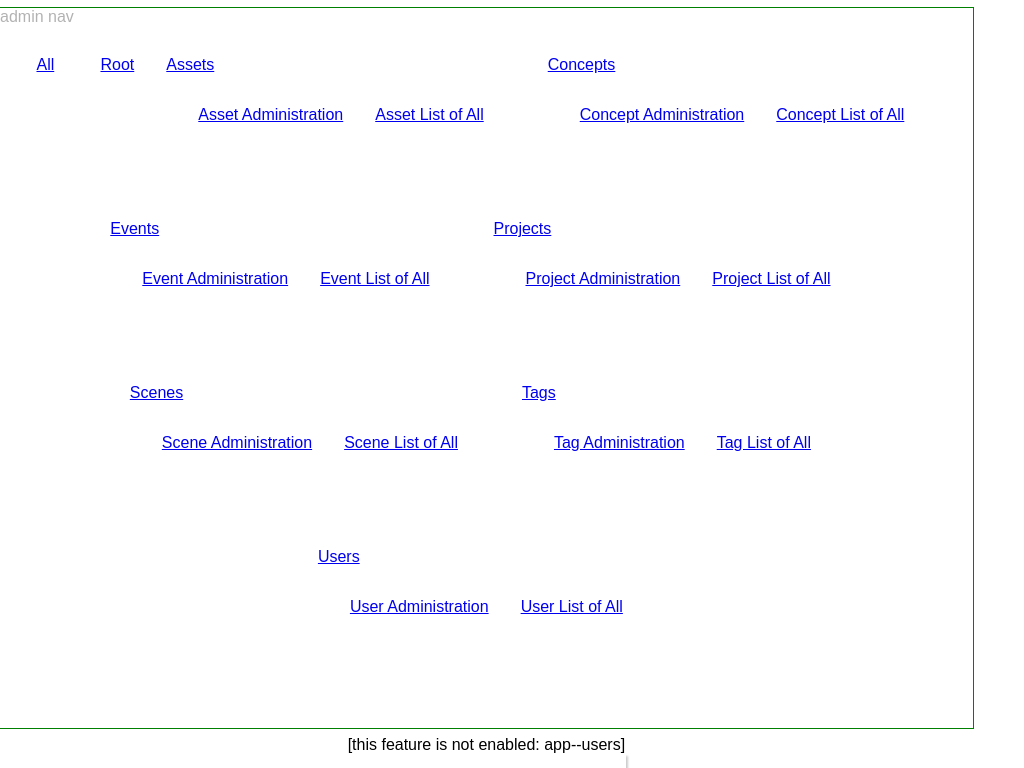
it: Admin Features Are Grounded › Has a link to Events; Event Features Are Not Enabled
This screenshot has width=1024, height=768.
Click the link "Events".
click(135, 229)  # box [110, 220, 159, 237]
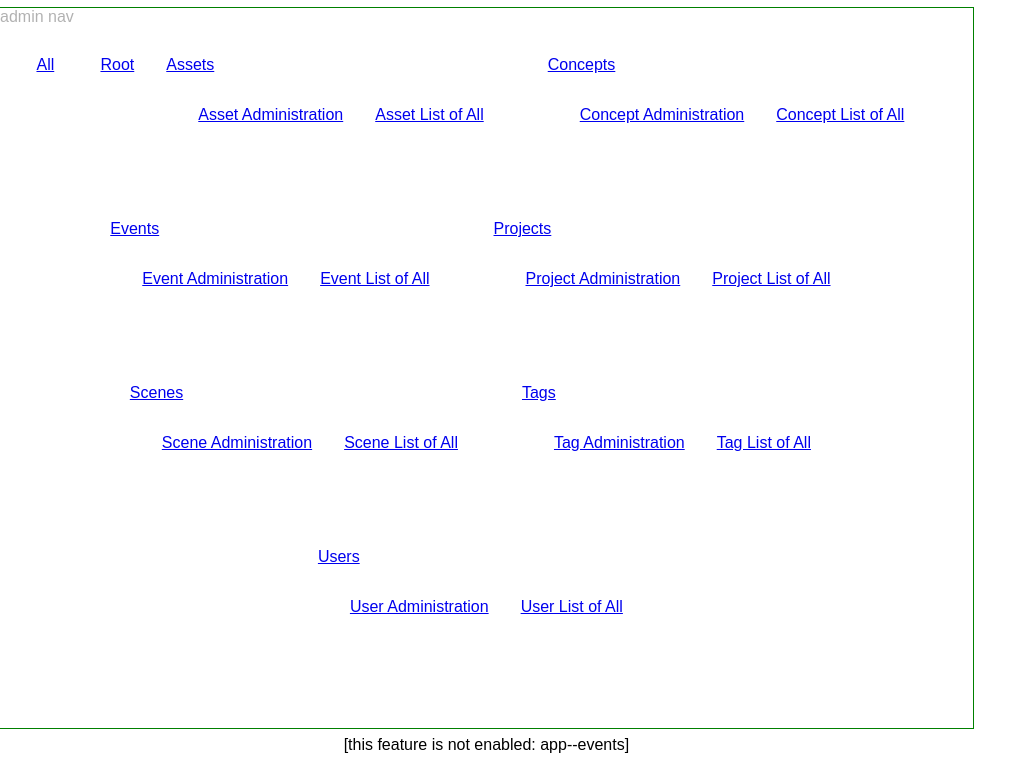
expect the text "[this feature is not enabled: app--events]" is shown: met
